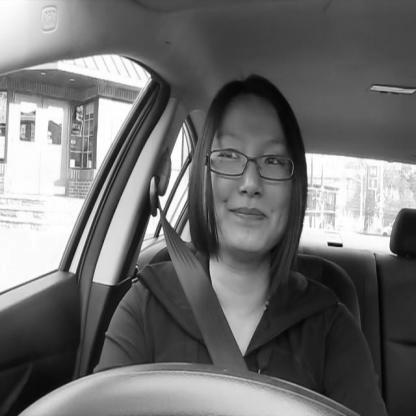seatbelt: (147, 73, 311, 381)
